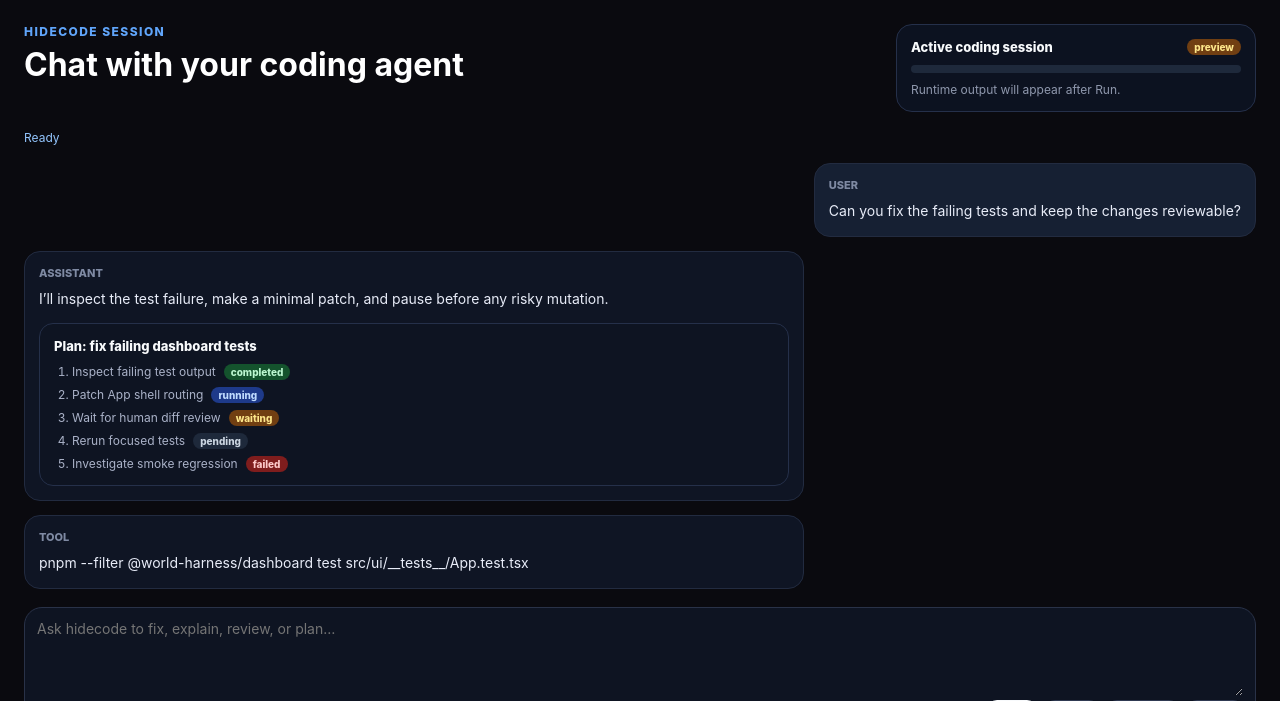
Test: ChatWorkspace › shows Plan as preview-only without submitting composer content
The image size is (1280, 701).
Type "Plan this without running" into the text box named "Message hidecode" at (640, 658), box x1=37 y1=620 x2=1243 y2=696
(page scrolled)
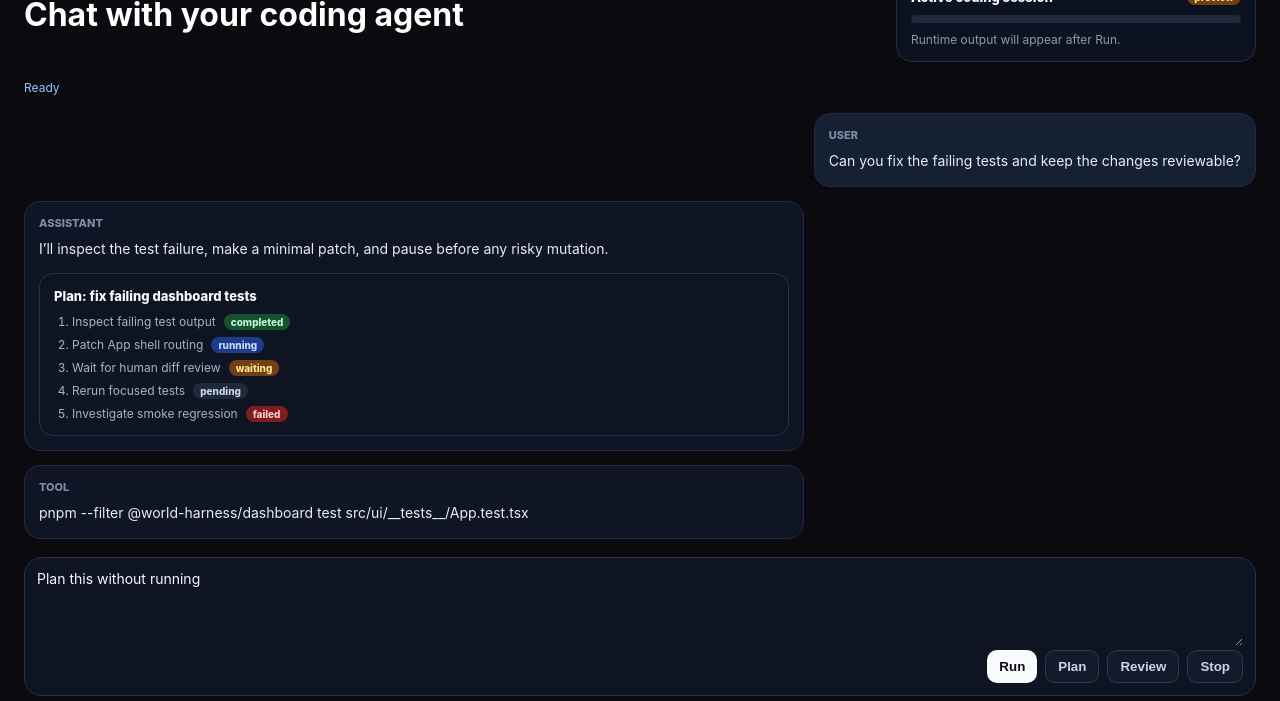
Click the button "Plan" at (1072, 667), box x1=1045 y1=650 x2=1100 y2=683
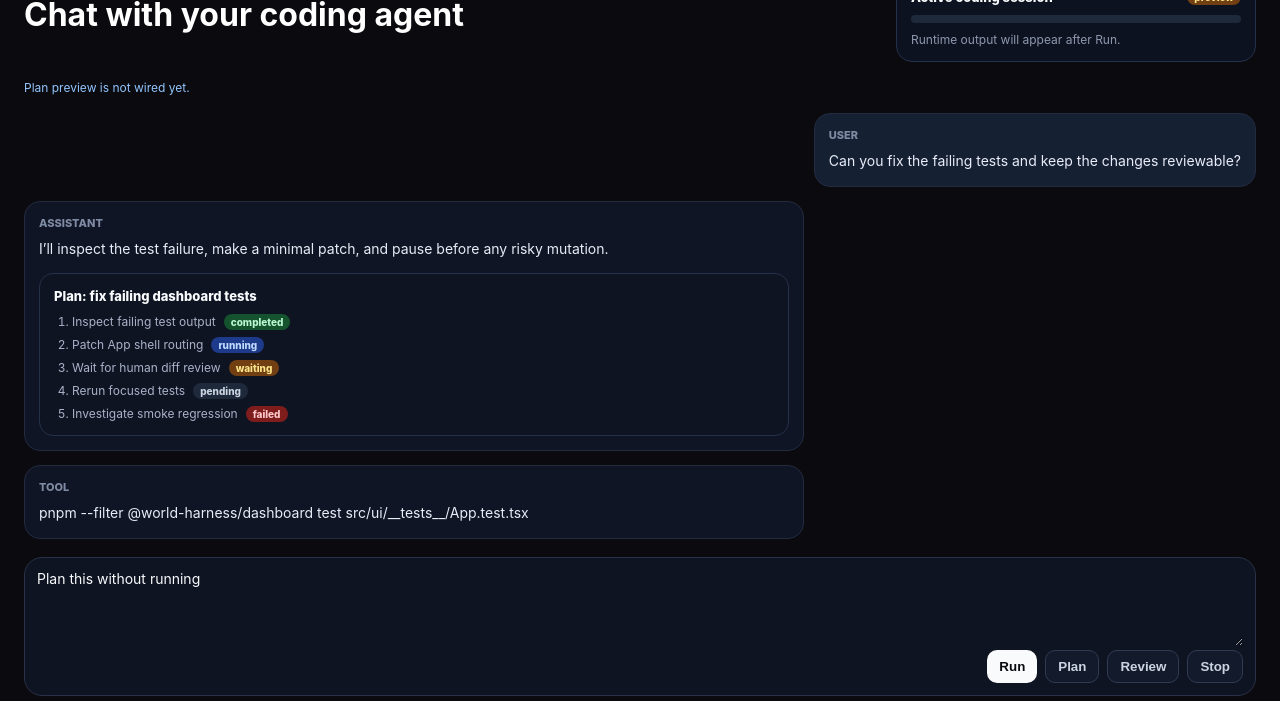
expect the text "Plan preview is not wired yet." is shown: met, box x1=24 y1=80 x2=190 y2=95
